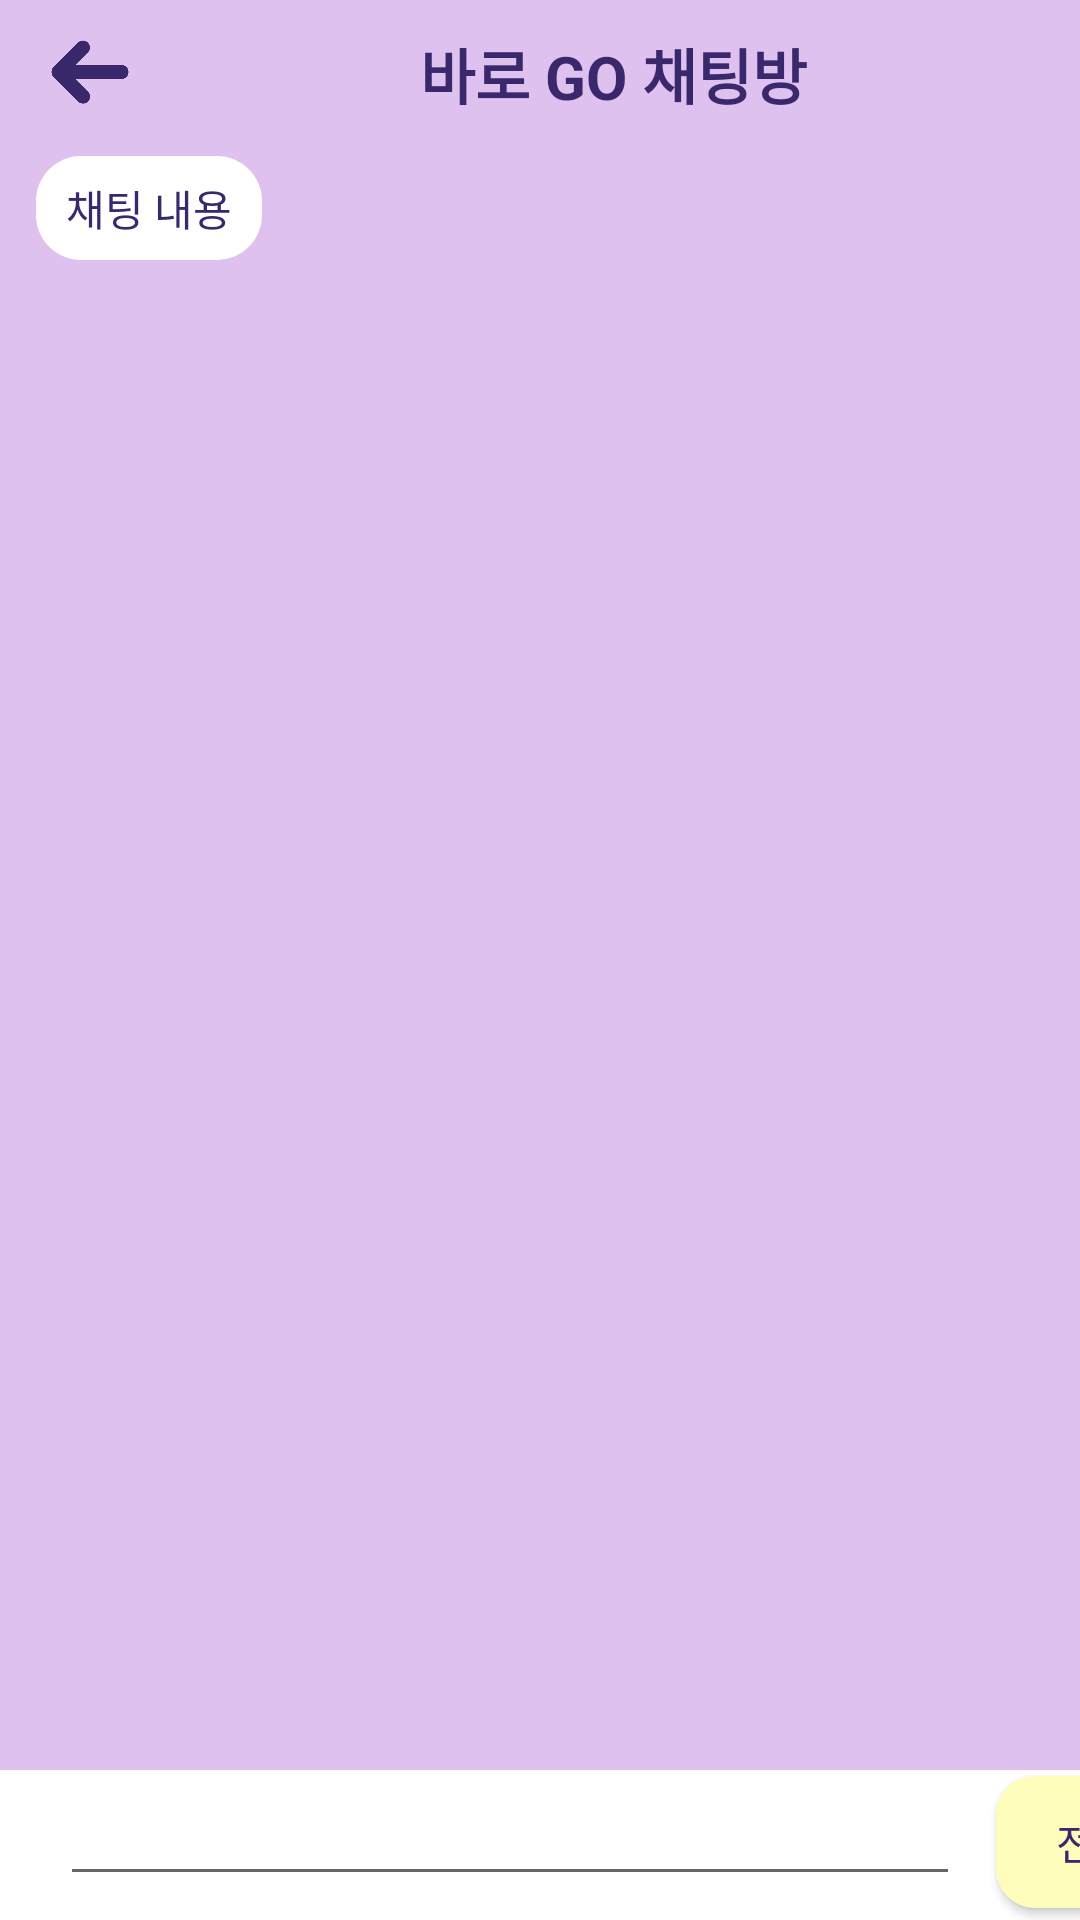

Icon click points for this 1080 × 1920 phone screenshot, format (x,y):
left: (90,72)
